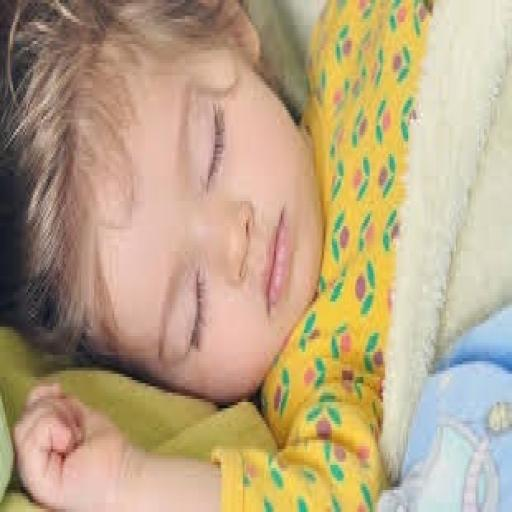sleeping: (2, 0, 508, 509)
